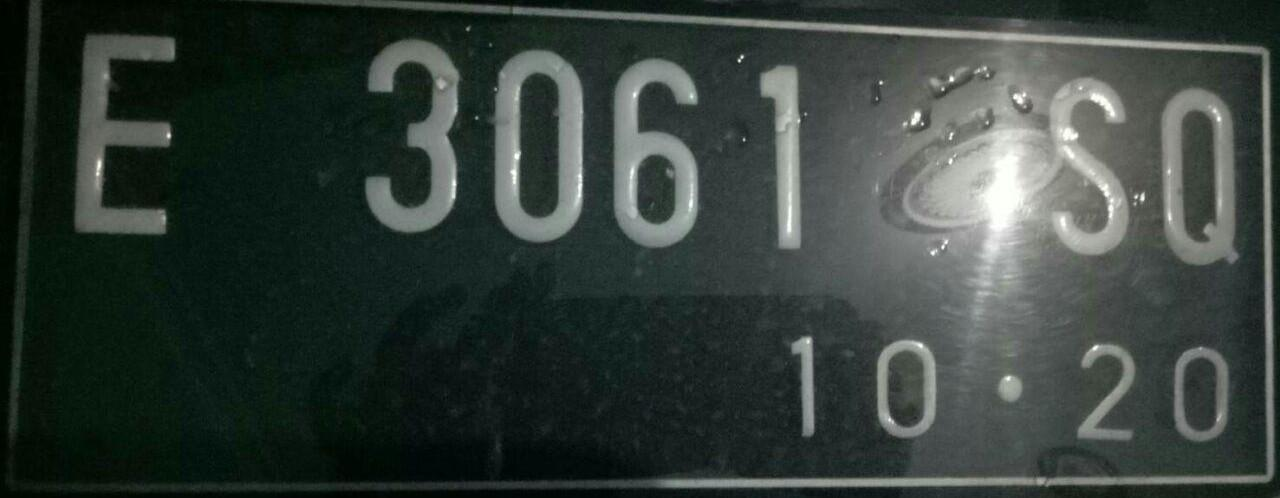0: (468, 36, 608, 248)
1: (720, 50, 851, 266)
3: (326, 30, 484, 247)
6: (598, 54, 726, 250)
E: (46, 29, 222, 240)
Q: (1136, 84, 1254, 276)
S: (1016, 64, 1150, 270)
